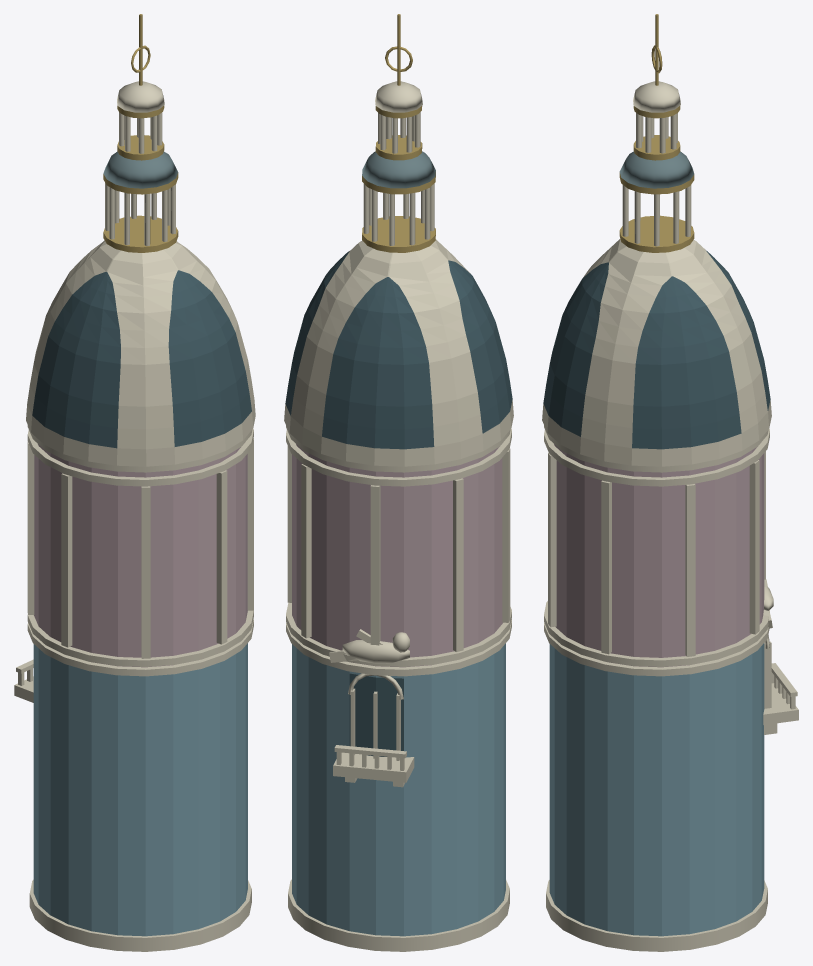
File: tour-lu-nantes-far.glb
The picture shows the model from 3 angles, left to right: view 1: azimuth 30°, elevation 25°; view 2: azimuth 150°, elevation 25°; view 3: azimuth 270°, elevation 25°; orthographic projection.
Parts seen in each view (by area): view 1: tour-lu-nantes-0-blue, tour-lu-nantes-0-plaster, tour-lu-nantes-0-pink, tour-lu-nantes-0-glass, tour-lu-nantes-0-gold, tour-lu-nantes-0-roof; view 2: tour-lu-nantes-0-plaster, tour-lu-nantes-0-blue, tour-lu-nantes-0-pink, tour-lu-nantes-0-glass, tour-lu-nantes-0-gold, tour-lu-nantes-0-roof; view 3: tour-lu-nantes-0-blue, tour-lu-nantes-0-plaster, tour-lu-nantes-0-pink, tour-lu-nantes-0-glass, tour-lu-nantes-0-gold, tour-lu-nantes-0-roof.
Boxes of the visible parts, x1=… form: tour-lu-nantes-0-blue: x1=33, y1=643, x2=247, y2=936; tour-lu-nantes-0-plaster: x1=14, y1=81, x2=255, y2=951; tour-lu-nantes-0-pink: x1=34, y1=444, x2=247, y2=667; tour-lu-nantes-0-glass: x1=32, y1=270, x2=251, y2=448; tour-lu-nantes-0-gold: x1=103, y1=14, x2=178, y2=252; tour-lu-nantes-0-roof: x1=103, y1=151, x2=177, y2=188; tour-lu-nantes-0-plaster: x1=284, y1=81, x2=513, y2=951; tour-lu-nantes-0-blue: x1=292, y1=643, x2=505, y2=936; tour-lu-nantes-0-pink: x1=292, y1=444, x2=502, y2=667; tour-lu-nantes-0-glass: x1=285, y1=251, x2=512, y2=756; tour-lu-nantes-0-gold: x1=362, y1=14, x2=435, y2=252; tour-lu-nantes-0-roof: x1=362, y1=151, x2=435, y2=188; tour-lu-nantes-0-blue: x1=549, y1=643, x2=764, y2=936; tour-lu-nantes-0-plaster: x1=542, y1=81, x2=798, y2=951; tour-lu-nantes-0-pink: x1=554, y1=444, x2=764, y2=667; tour-lu-nantes-0-glass: x1=543, y1=250, x2=770, y2=449; tour-lu-nantes-0-gold: x1=619, y1=14, x2=694, y2=252; tour-lu-nantes-0-roof: x1=619, y1=151, x2=694, y2=188.
Bounding box in the file's own units: 8.89 × 38 × 9.94.
